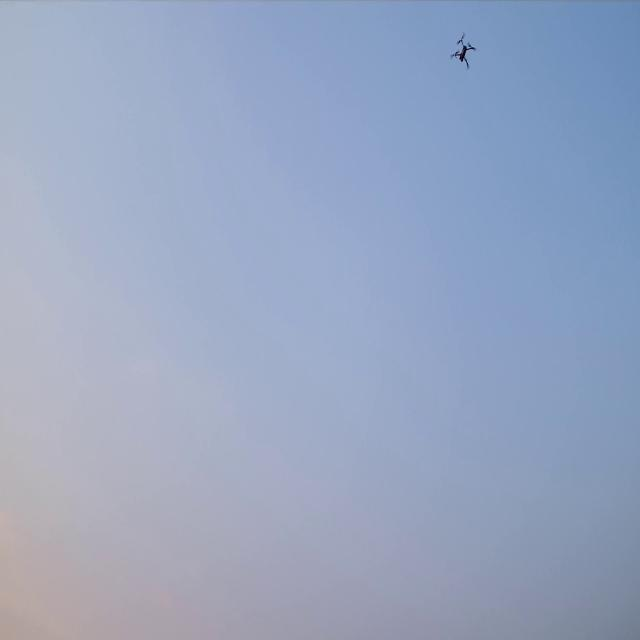UAV: (453, 38, 474, 65)
